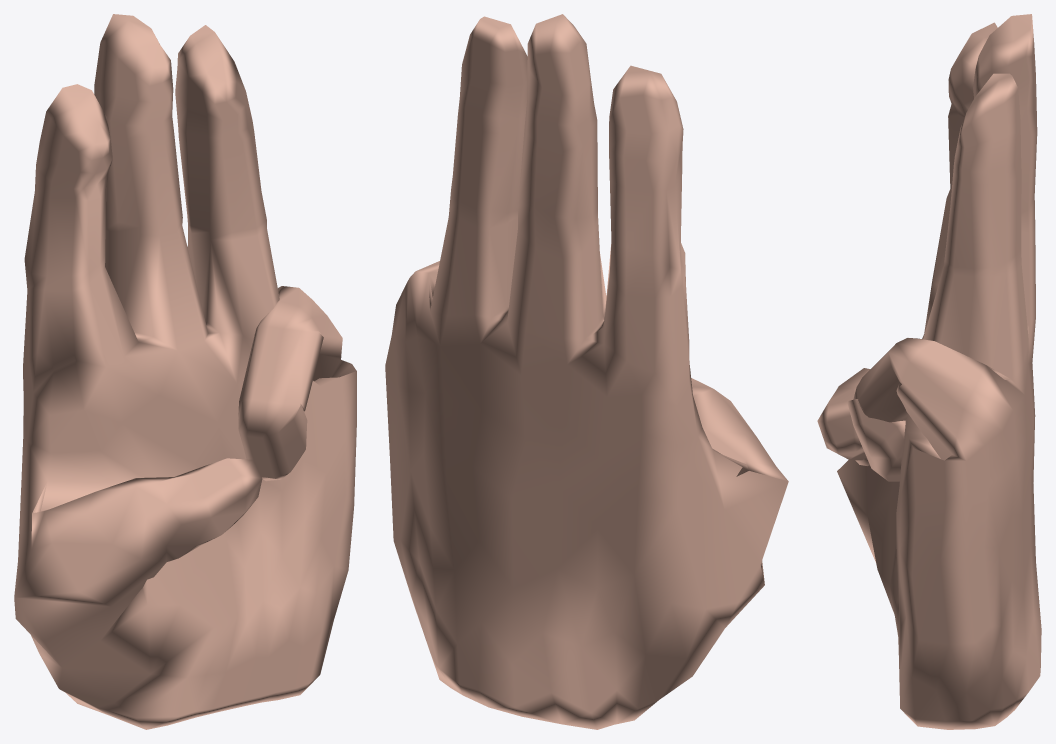
File: MAO_TERCA.obj
3 views of the same model, side by side, from view 1: azimuth 30°, elevation 25°; view 2: azimuth 150°, elevation 25°; view 3: azimuth 270°, elevation 25° (orthographic). The views are drawn at different scales.
Parts seen in each view (by area): view 1: mao_dir polySurface1; view 2: mao_dir polySurface1; view 3: mao_dir polySurface1.
Part boxes in pixels (x1,y1,x2,y2): mao_dir polySurface1: (14,14,356,729); mao_dir polySurface1: (385,14,788,729); mao_dir polySurface1: (817,14,1041,729).
Size of the model in its own units: 132 by 243 by 75.53.
